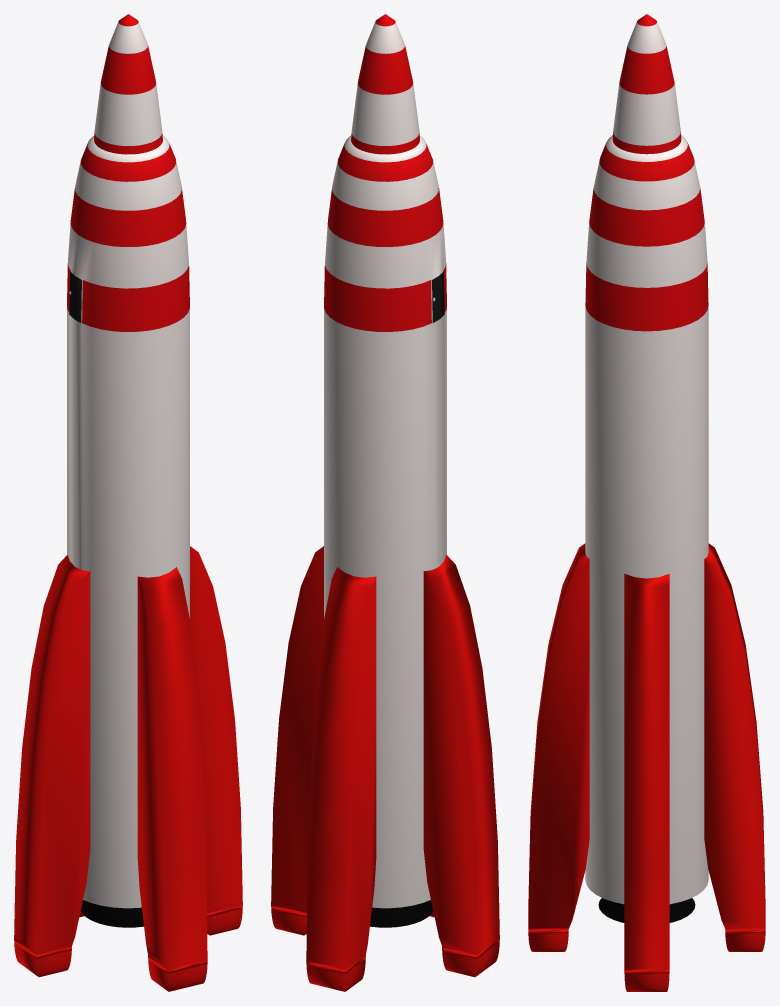
Rendered from rocket.glb.
The picture shows the model from 3 angles, left to right: view 1: azimuth 30°, elevation 25°; view 2: azimuth 150°, elevation 25°; view 3: azimuth 270°, elevation 25°; orthographic projection.
Parts seen in each view (by area): view 1: Cube.001; view 2: Cube.001; view 3: Cube.001.
Boxes of the visible parts, <box> form: Cube.001: <box>14,14,242,991</box>; Cube.001: <box>271,14,499,991</box>; Cube.001: <box>528,14,765,991</box>.
Bounding box in the file's own units: 6.93 × 29.93 × 6.93.
